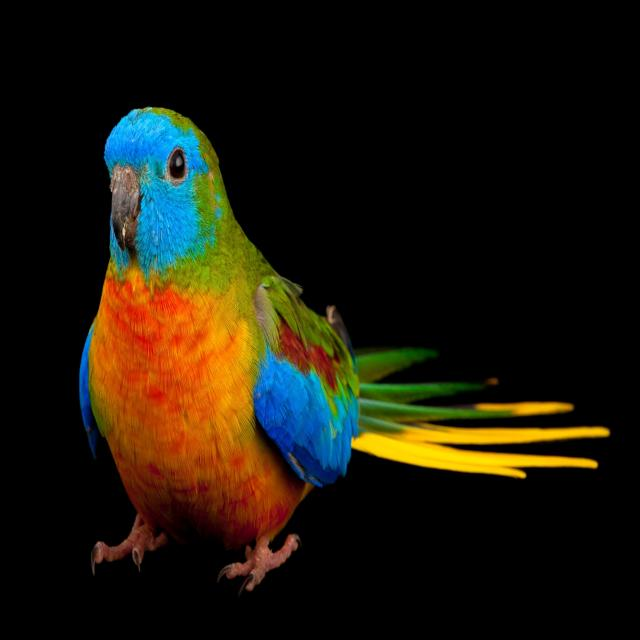Parrot: (76, 104, 602, 582)
